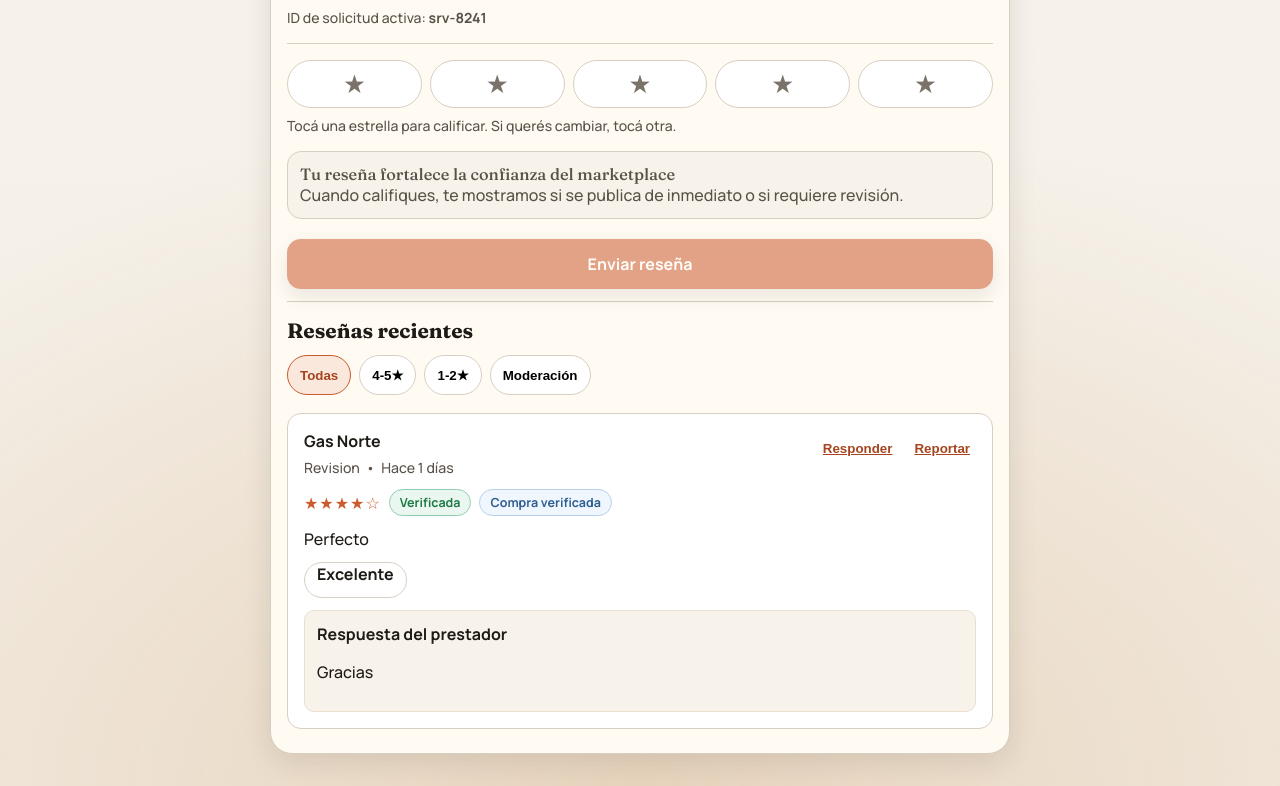
it: MobileReviewFlow › keeps report/respond dialogs mutually exclusive through a singleton modal controller
(page scrolled)
Step 1. Click the button with aria-label "Reportar reseña de Gas Norte" → (942, 448), box [908,430,976,466]
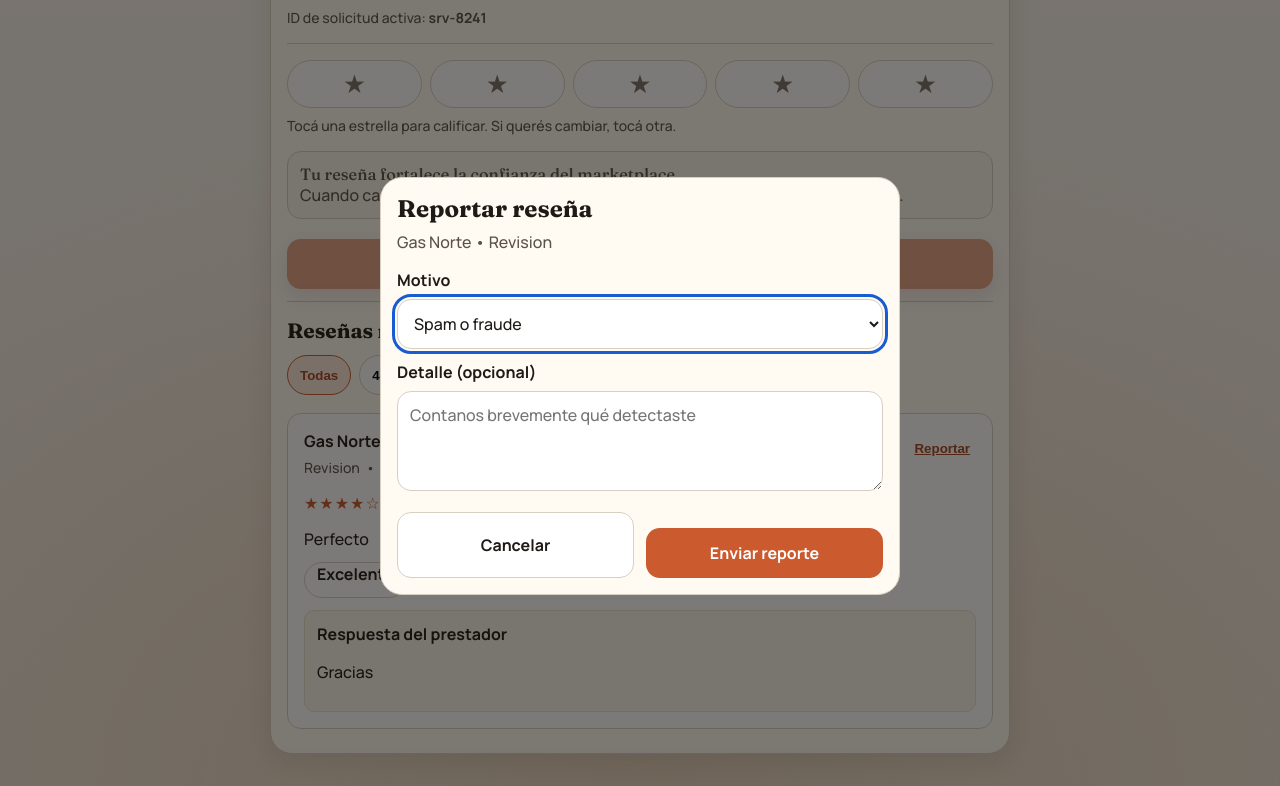
Expected: the dialog "Reportar reseña" is shown, [380,177,900,595]
